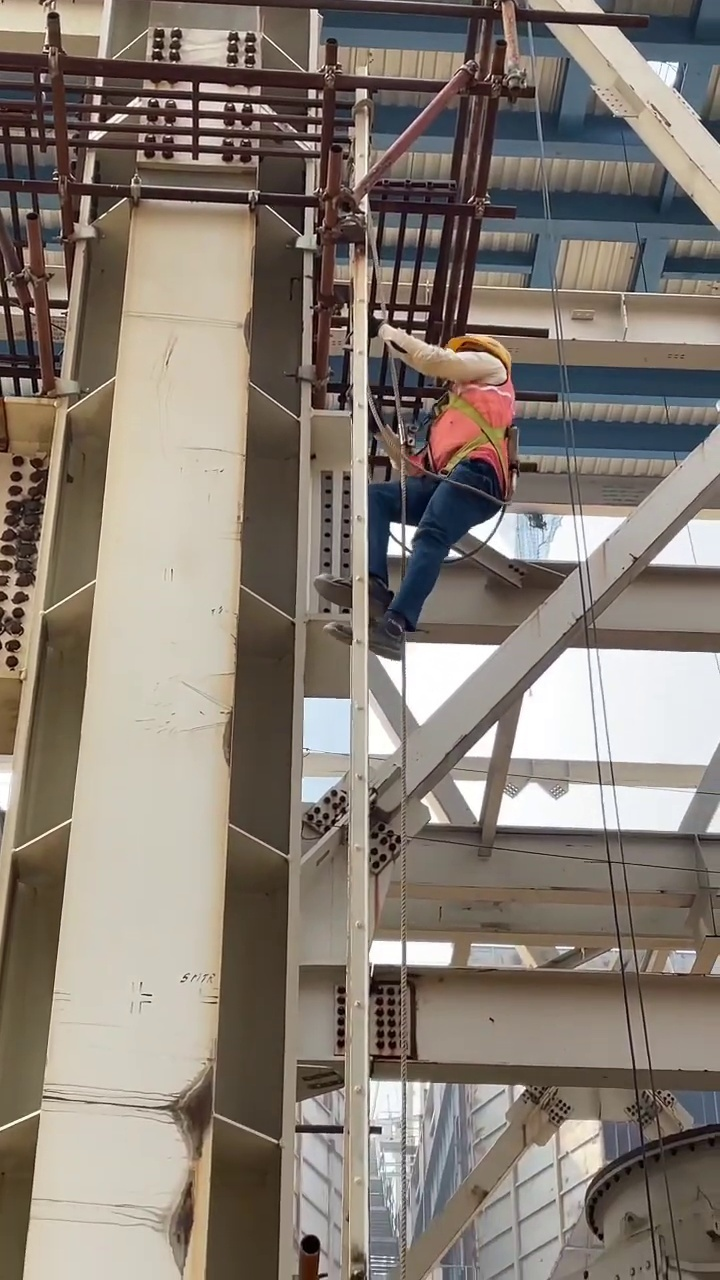Helmet: (447, 333, 513, 364)
Person: (312, 332, 520, 661)
Safety_Harness: (420, 376, 519, 499)
Safety_shoes: (325, 615, 409, 663), (312, 573, 393, 617)
